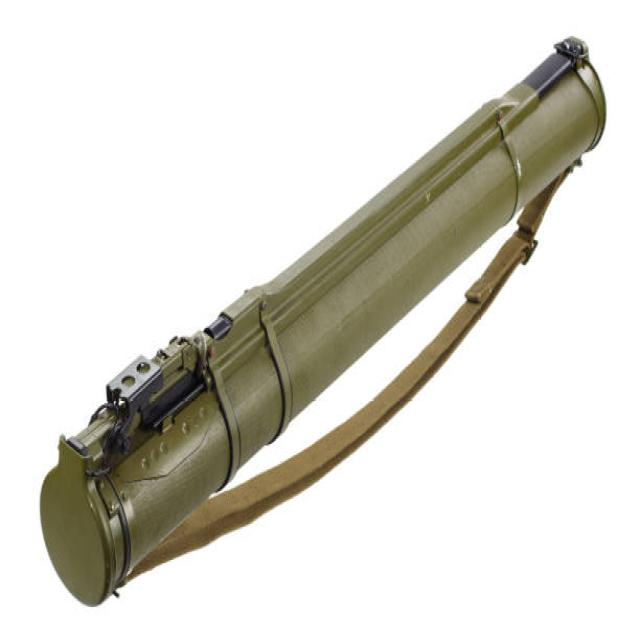bazooka: (34, 25, 615, 621)
